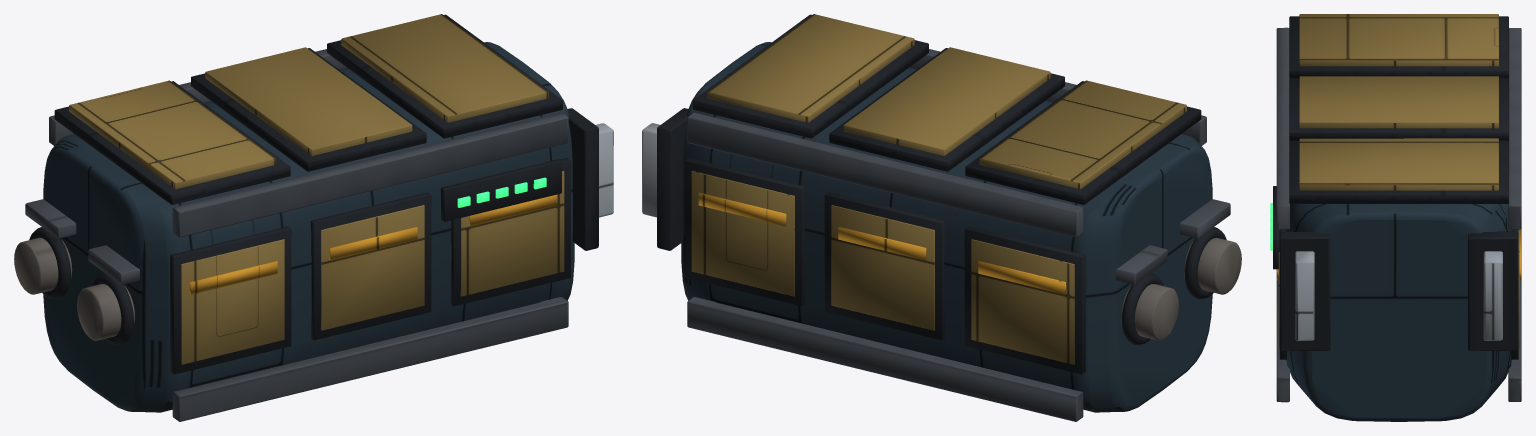
Rendered from ops_battery_cassette_lod1.glb.
3 views of the same model, side by side, from view 1: azimuth 30°, elevation 25°; view 2: azimuth 150°, elevation 25°; view 3: azimuth 270°, elevation 25° (orthographic). The views are drawn at different scales.
Parts seen in each view (by area): view 1: LOD1_Hull, LOD1_Armor, LOD1_MechanicalDark, LOD1_Mechanical, LOD1_Ceramic, LOD1_Livery, LOD1_BrushedMetal, LOD1_HOOK_NAV_STARBOARD; view 2: LOD1_Hull, LOD1_Armor, LOD1_MechanicalDark, LOD1_Mechanical, LOD1_Ceramic, LOD1_Livery, LOD1_BrushedMetal; view 3: LOD1_Armor, LOD1_Hull, LOD1_MechanicalDark, LOD1_Mechanical, LOD1_BrushedMetal.
Boxes of the visible parts, left/top/right/bottom form: LOD1_Hull: left=69, top=14, right=564, bottom=364; LOD1_Armor: left=43, top=42, right=574, bottom=410; LOD1_MechanicalDark: left=29, top=14, right=598, bottom=412; LOD1_Mechanical: left=25, top=49, right=568, bottom=421; LOD1_Ceramic: left=14, top=238, right=134, bottom=340; LOD1_Livery: left=190, top=194, right=557, bottom=294; LOD1_BrushedMetal: left=595, top=123, right=613, bottom=217; LOD1_HOOK_NAV_STARBOARD: left=457, top=177, right=546, bottom=207; LOD1_Hull: left=691, top=14, right=1186, bottom=364; LOD1_Armor: left=681, top=42, right=1212, bottom=410; LOD1_MechanicalDark: left=657, top=14, right=1226, bottom=412; LOD1_Mechanical: left=687, top=49, right=1230, bottom=421; LOD1_Ceramic: left=1121, top=237, right=1241, bottom=340; LOD1_Livery: left=698, top=192, right=1065, bottom=294; LOD1_BrushedMetal: left=642, top=123, right=659, bottom=217; LOD1_Armor: left=1286, top=204, right=1512, bottom=421; LOD1_Hull: left=1278, top=14, right=1519, bottom=348; LOD1_MechanicalDark: left=1273, top=16, right=1518, bottom=413; LOD1_Mechanical: left=1276, top=27, right=1521, bottom=402; LOD1_BrushedMetal: left=1295, top=251, right=1502, bottom=340.
Size of the model in its own units: 2.76 by 1.27 by 1.28.
8 materials, 7 textured.
